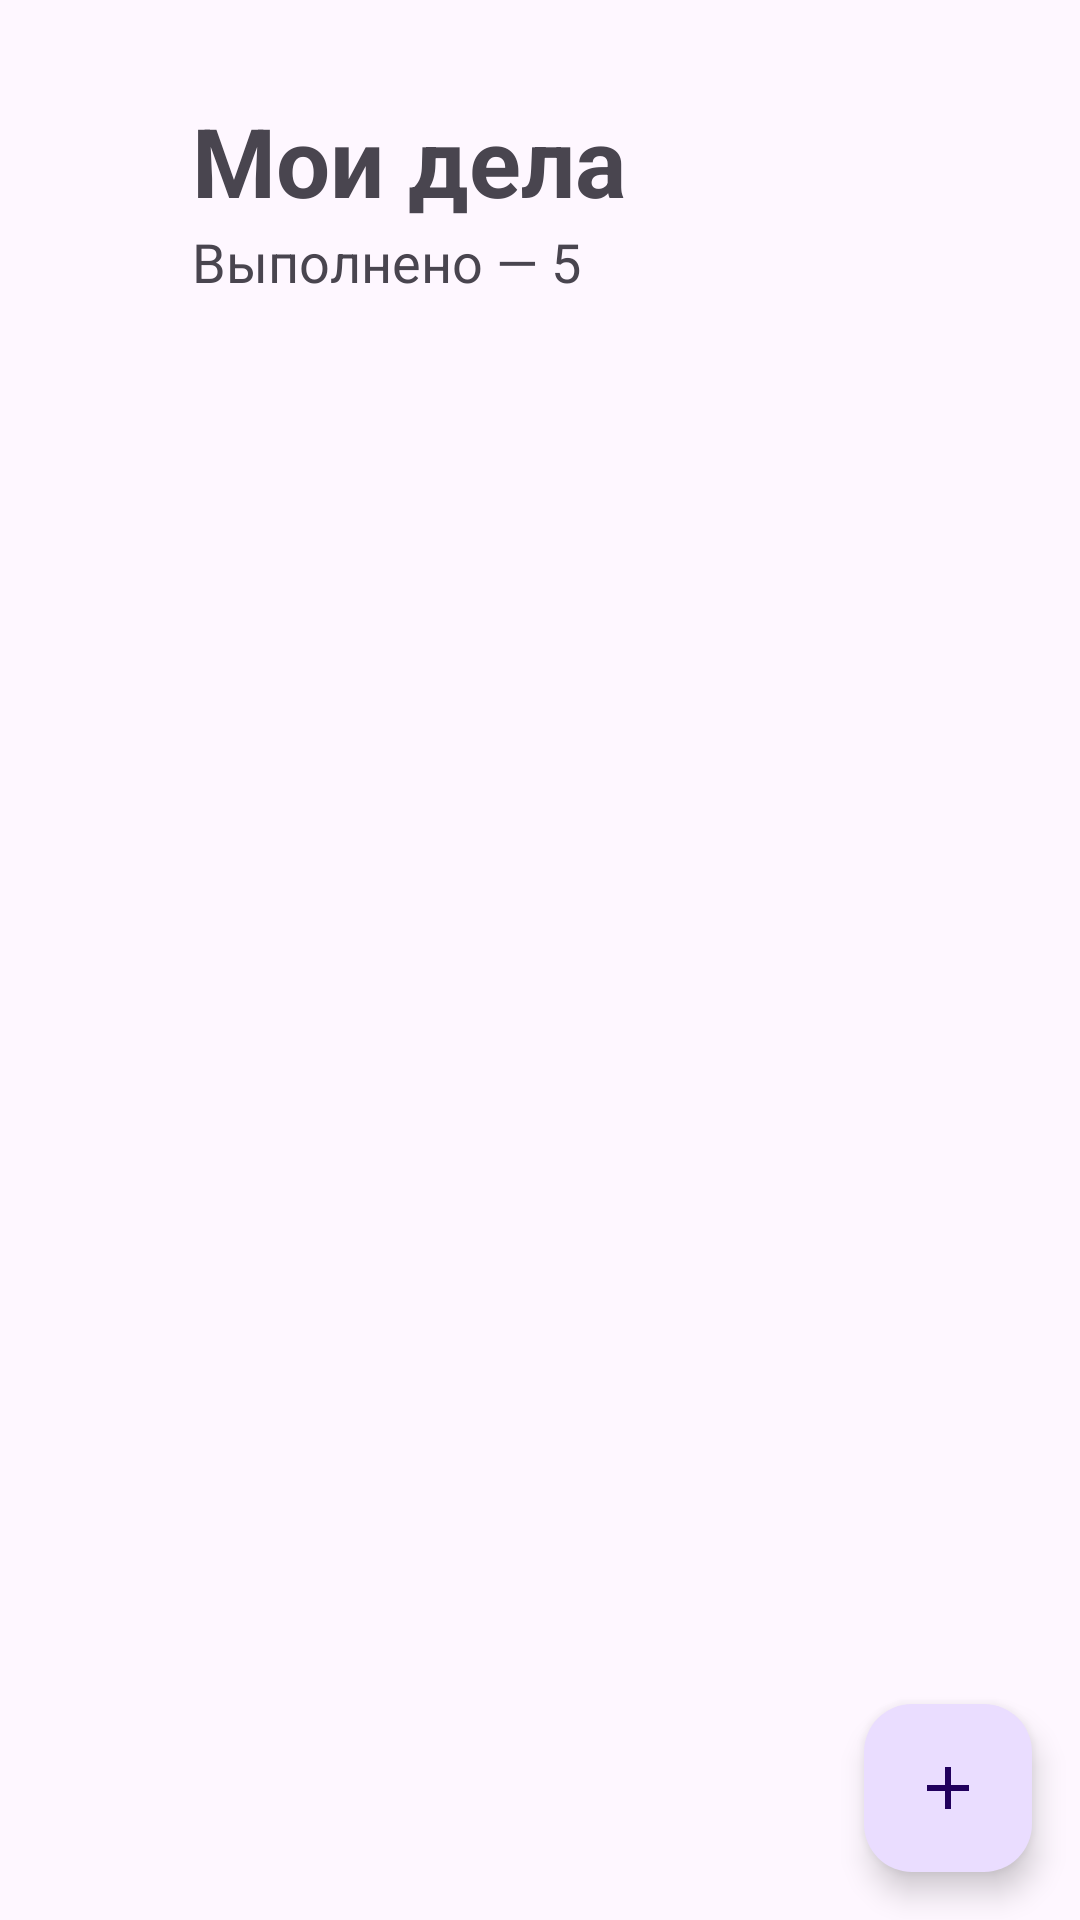

Icon click points for this 1080×1920 phone screenshot, format (x,y):
Add Button: (948,1788)
